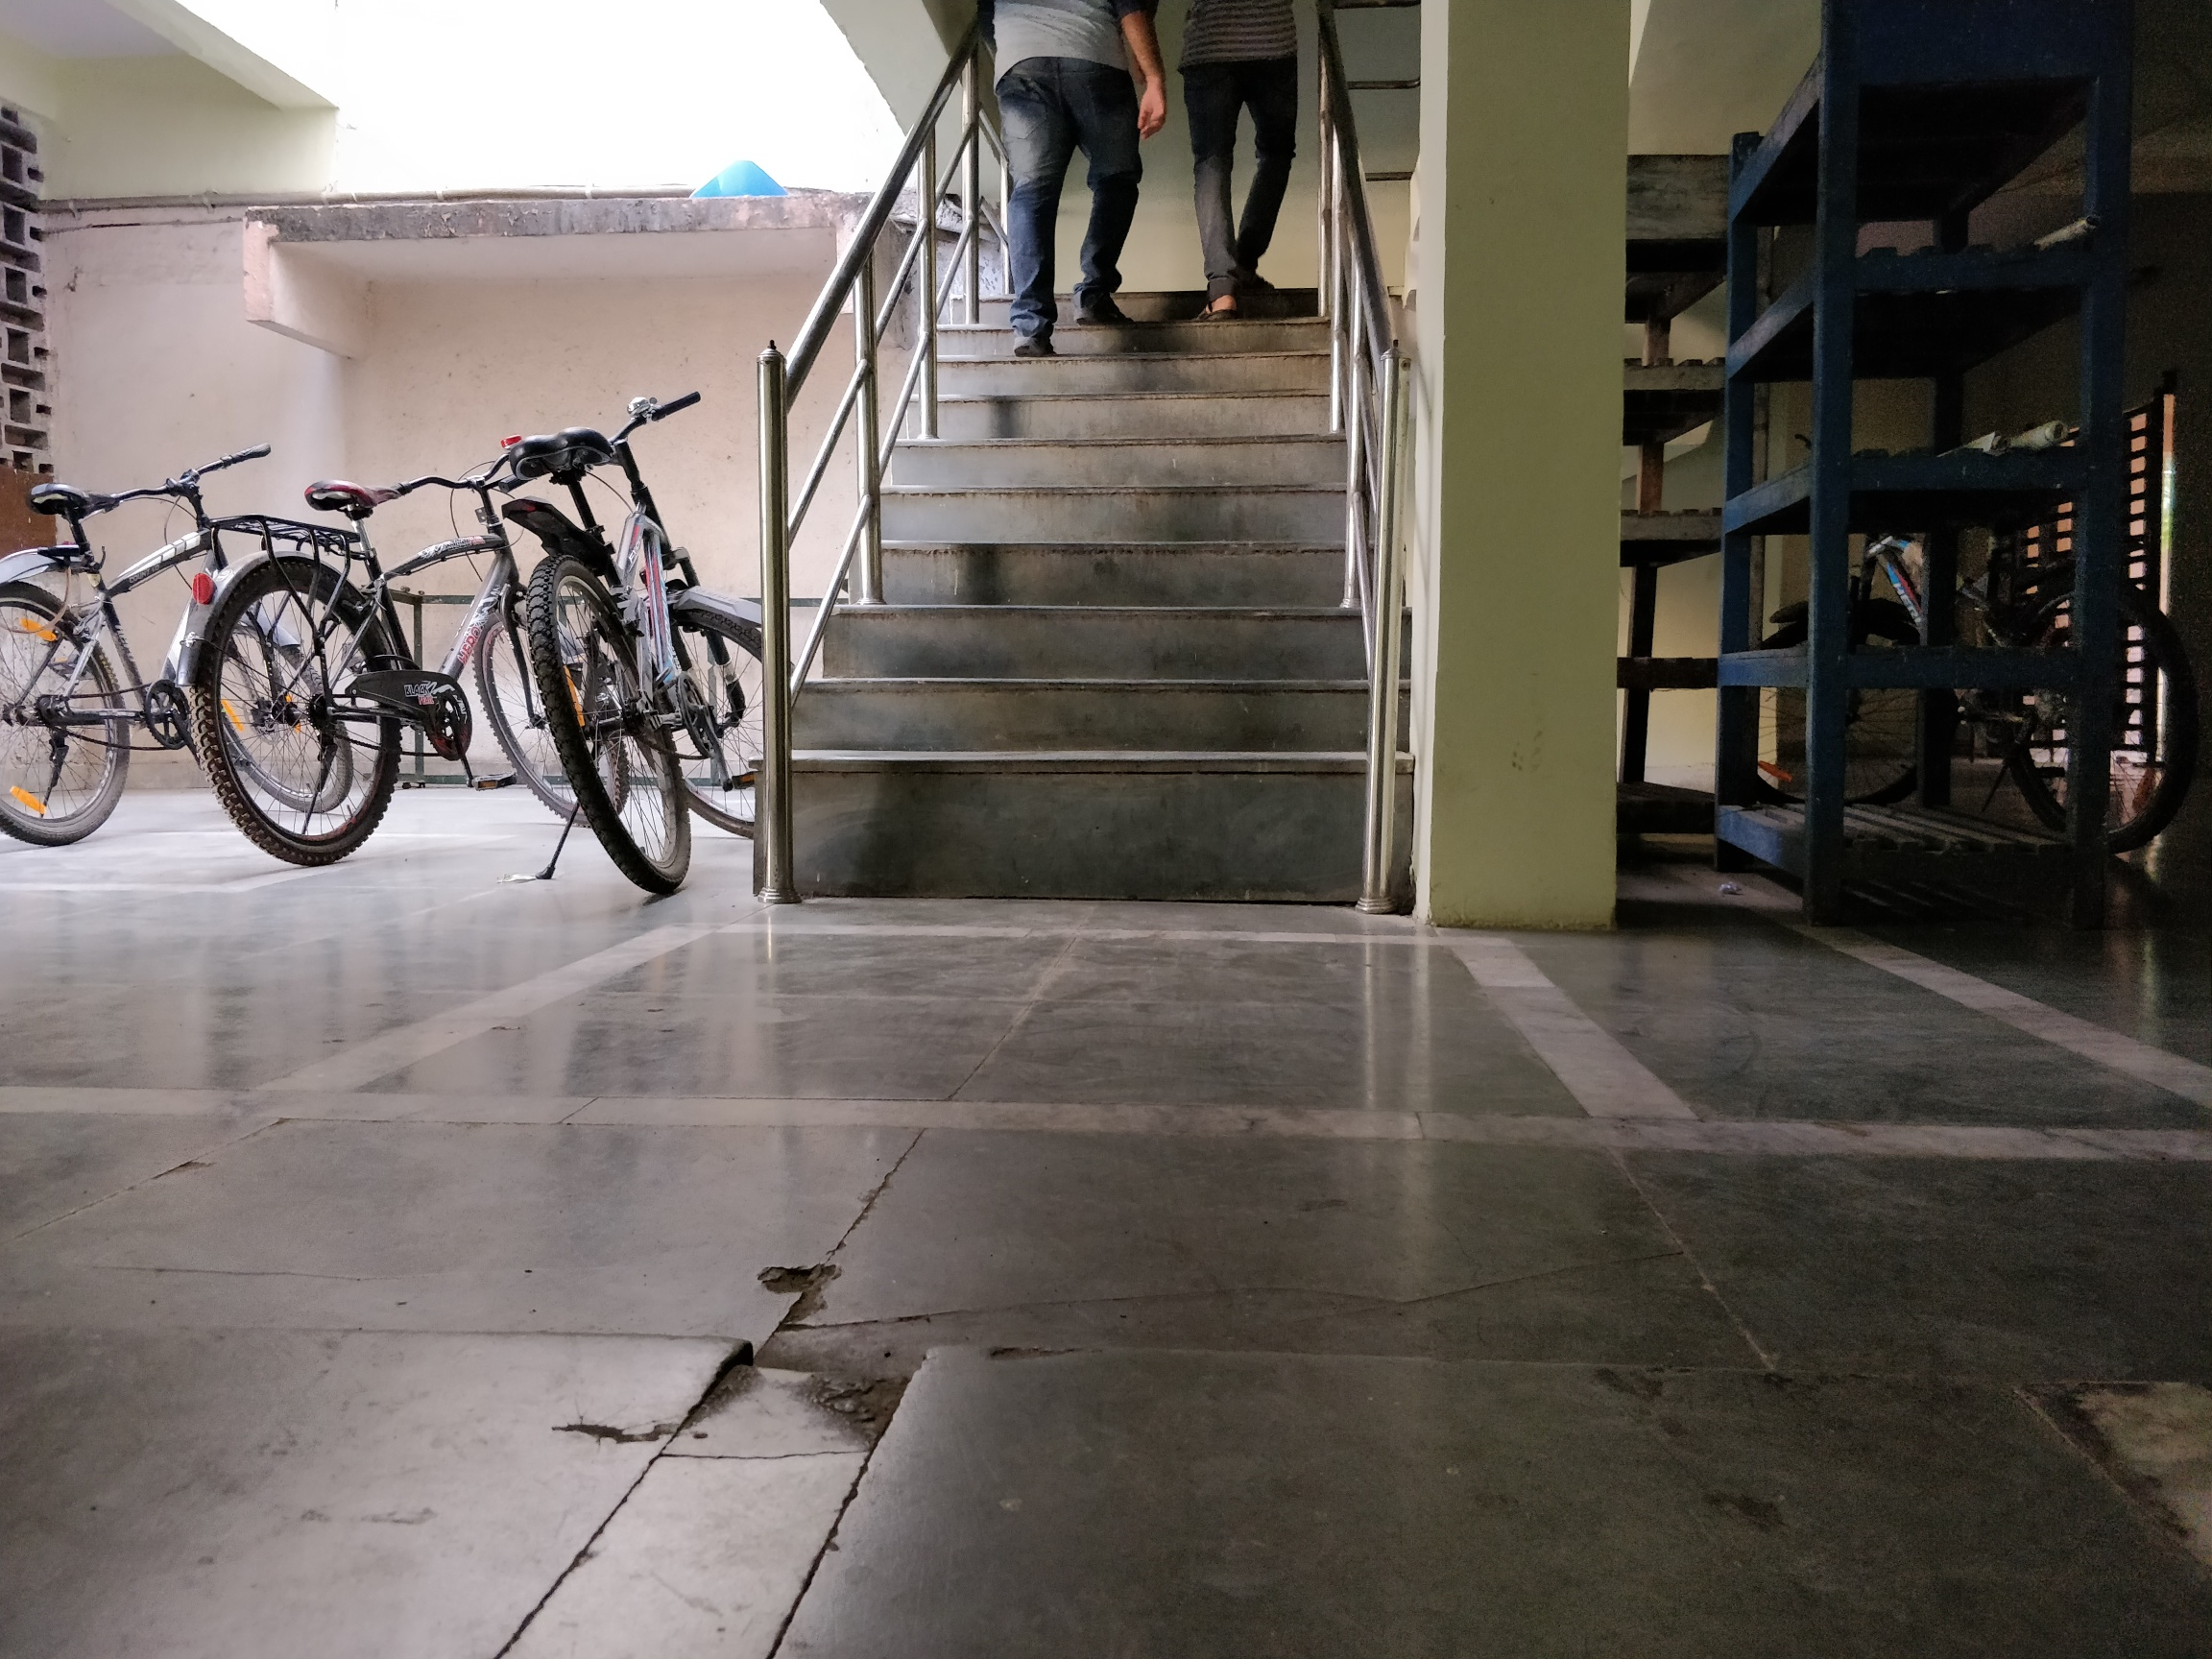stairs_up: (792, 296, 1341, 931)
